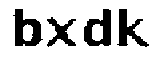b: (11, 4, 43, 52)
d: (83, 5, 114, 52)
k: (116, 4, 153, 51)
x: (45, 15, 78, 50)
